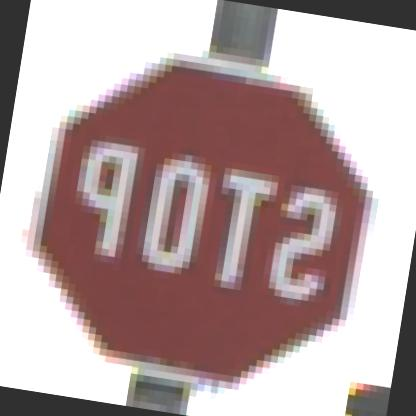stop: (0, 40, 401, 415)
